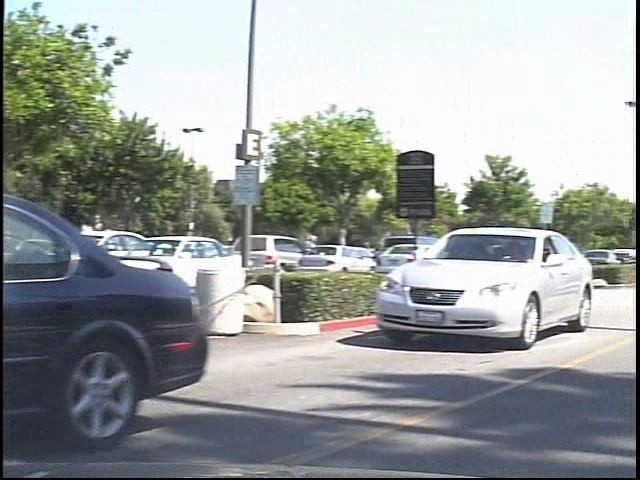person: (307, 226, 334, 277)
